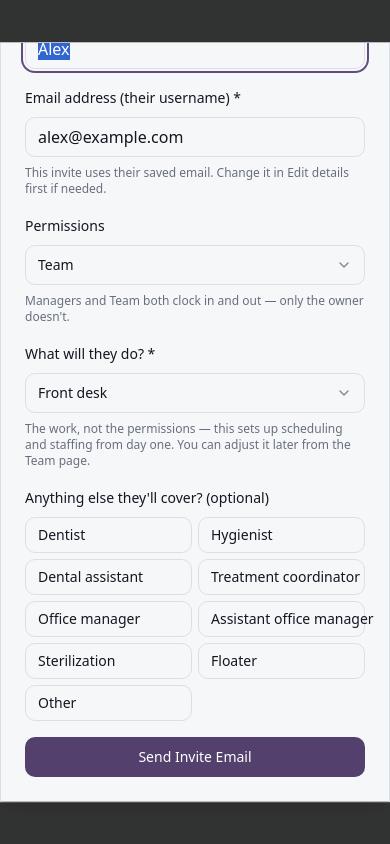
Test: inviting an existing roster member › keeps their email fixed and sends no replacement starting schedule or PTO
The width and height of the screenshot is (390, 844).
(page scrolled)
What coordinates should you click on to do the following:
click the button "Send Invite Email"
I would click on:
 (195, 757)
Its box is [25,737,365,777].
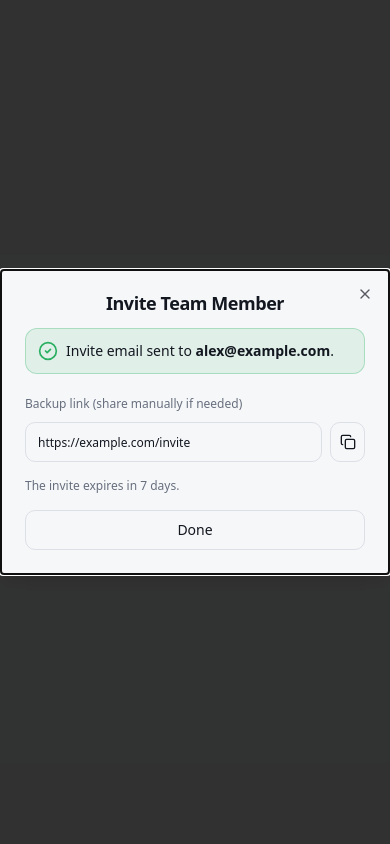
Expected: the button "Done" is shown, [25,510,365,550]
